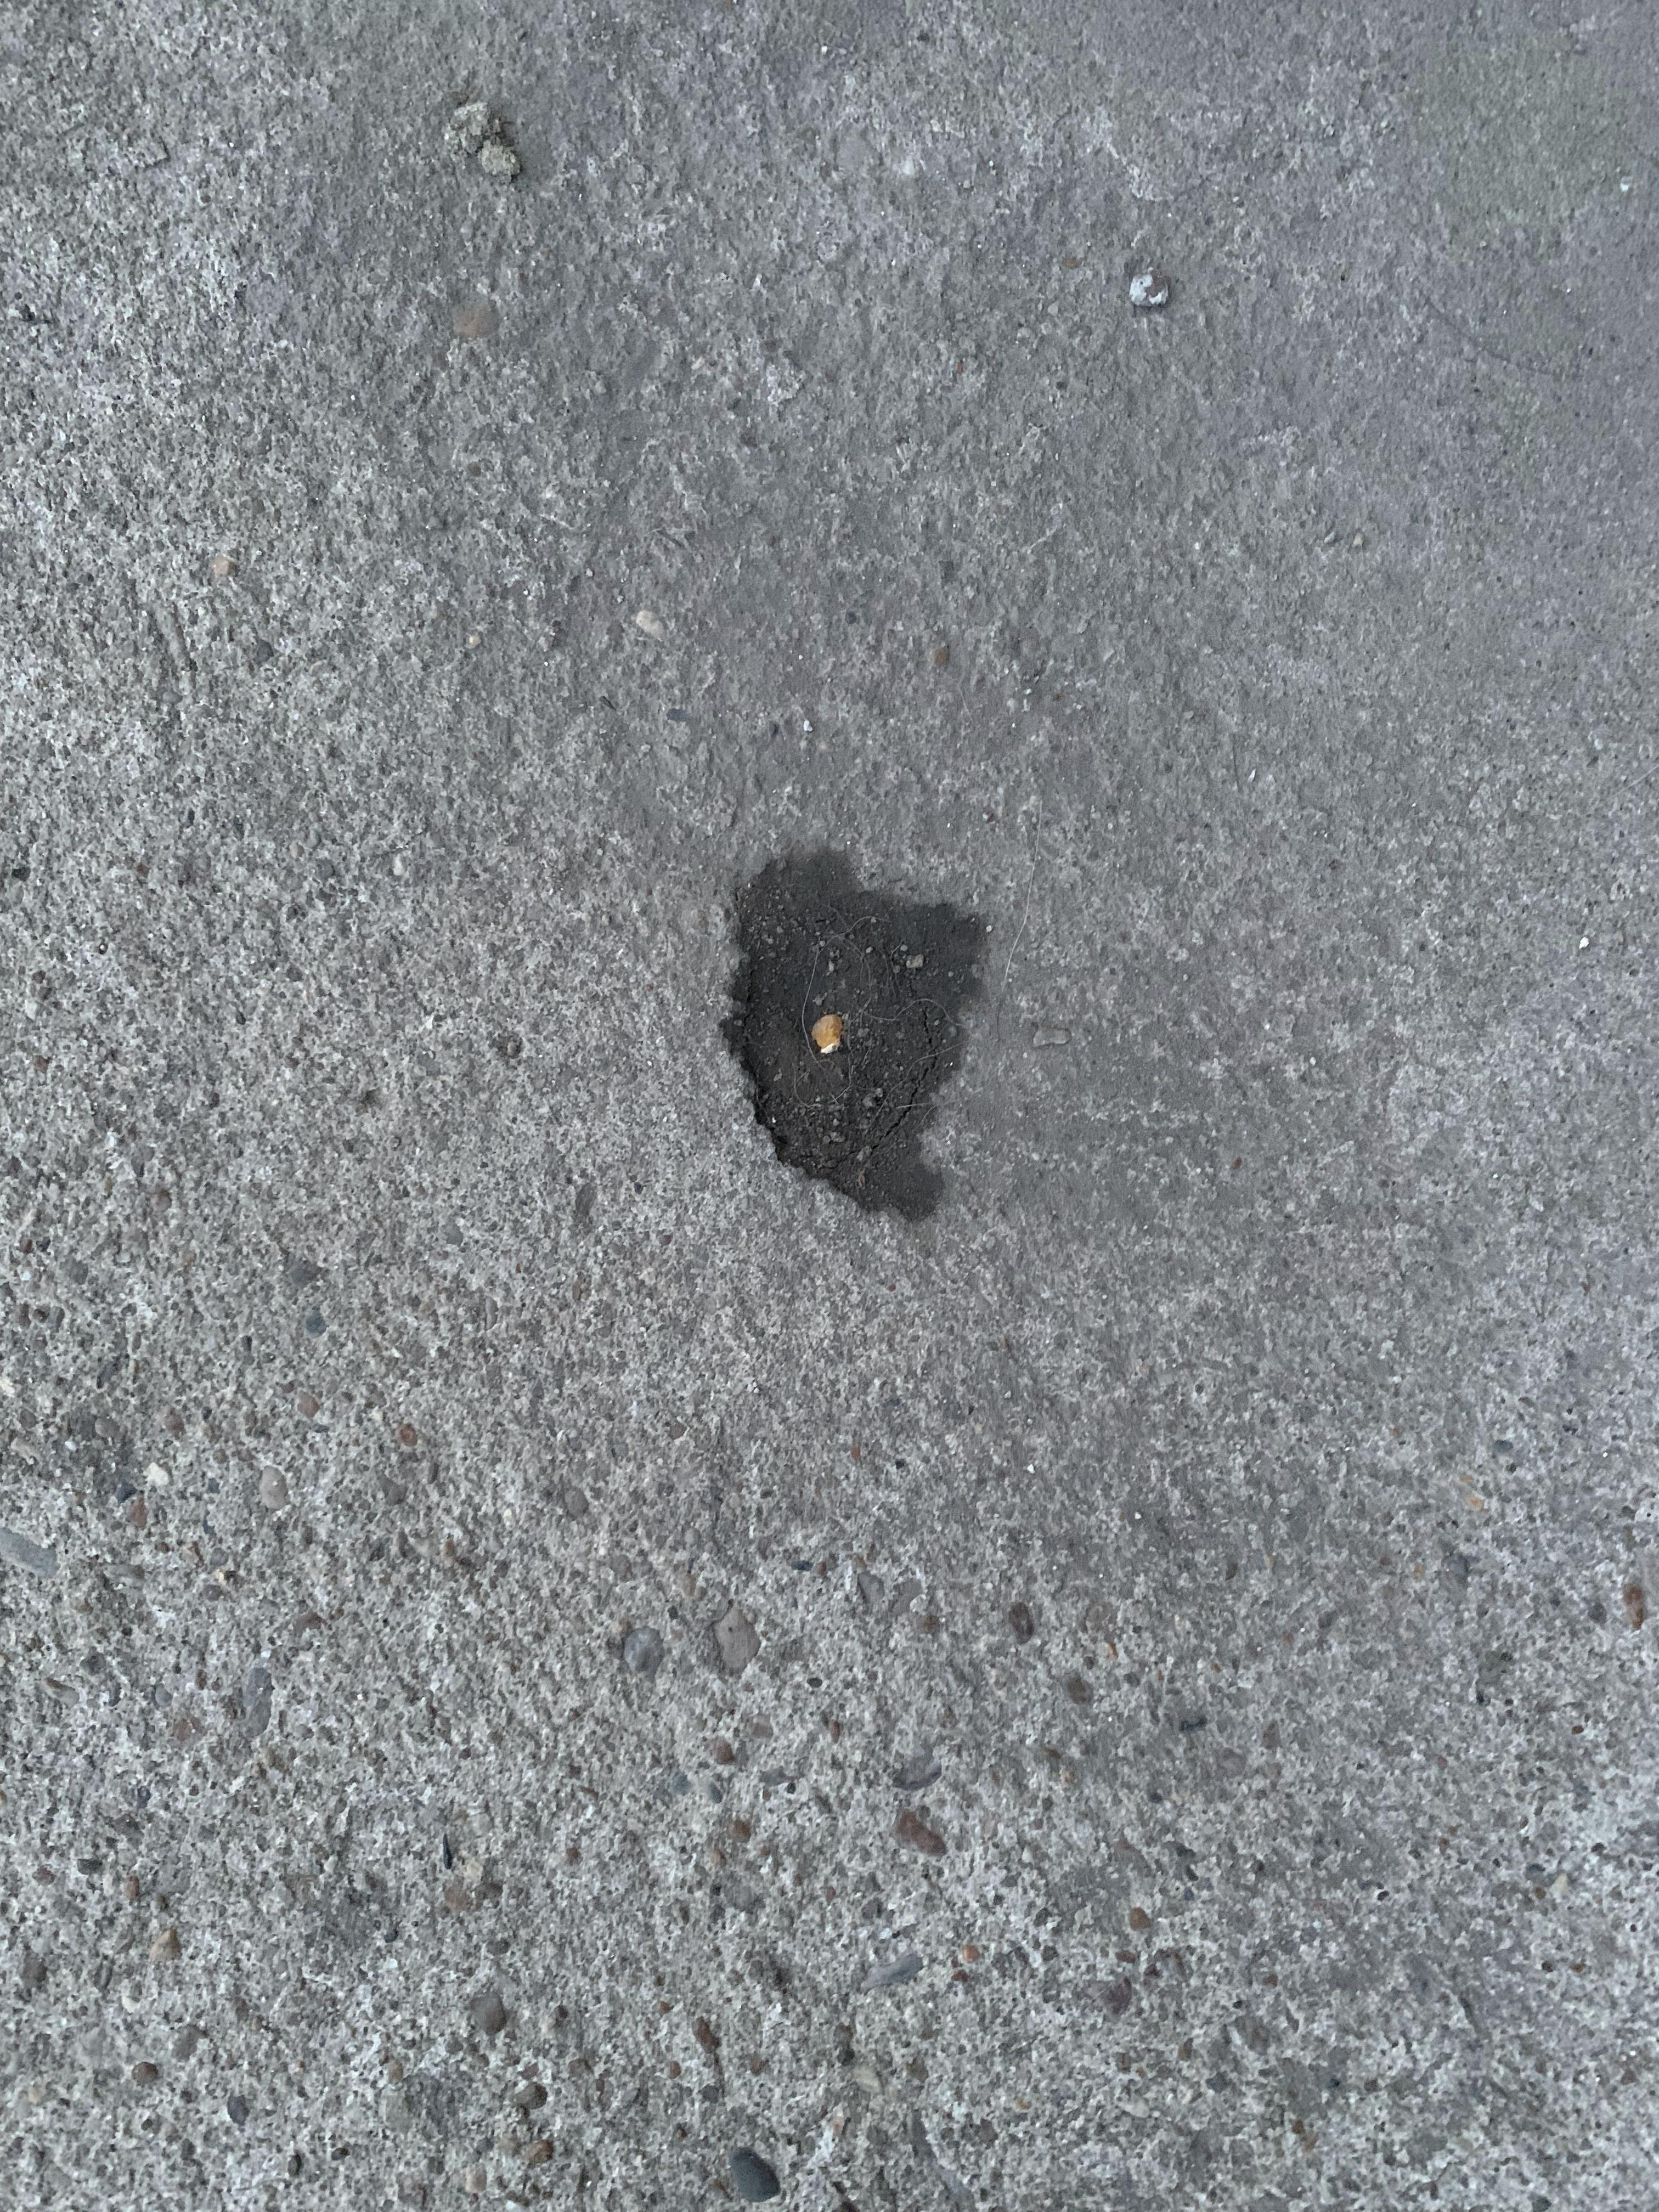grey spot: (718, 846, 986, 1226)
